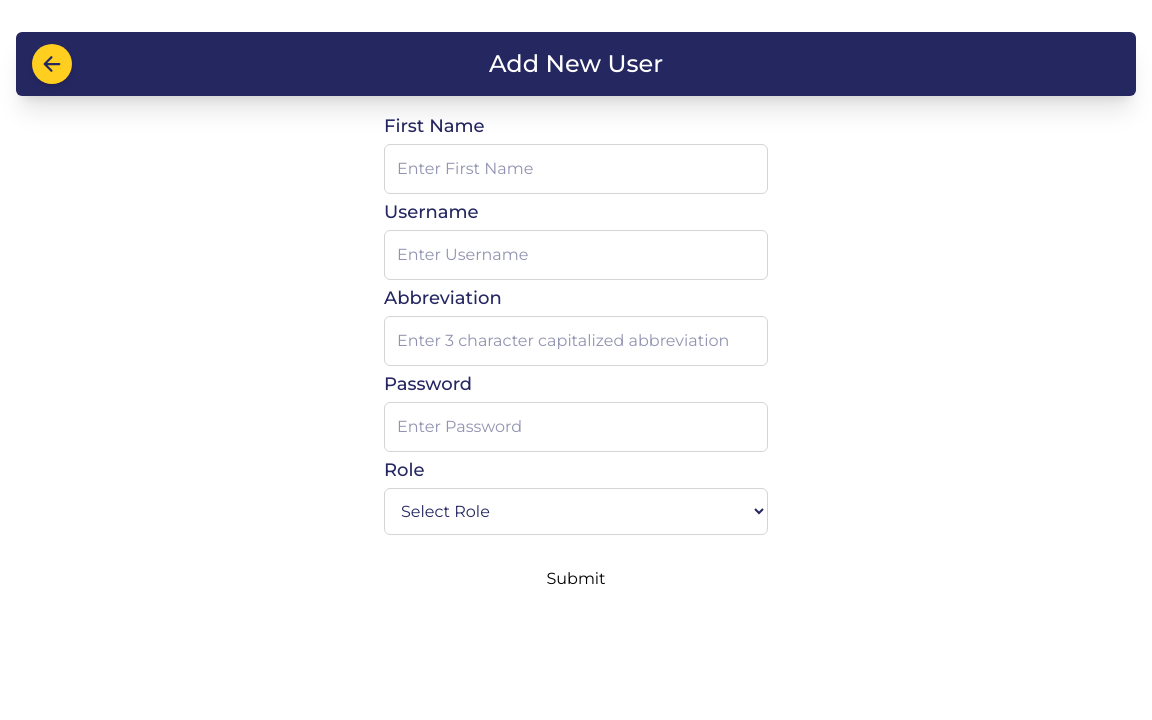
Scenario: AddUser Integration Test › A resued username fails
The image size is (1152, 720).
Type "Sydney" into the field labelled "First Name" at [576, 169], box [384,144,768,194]
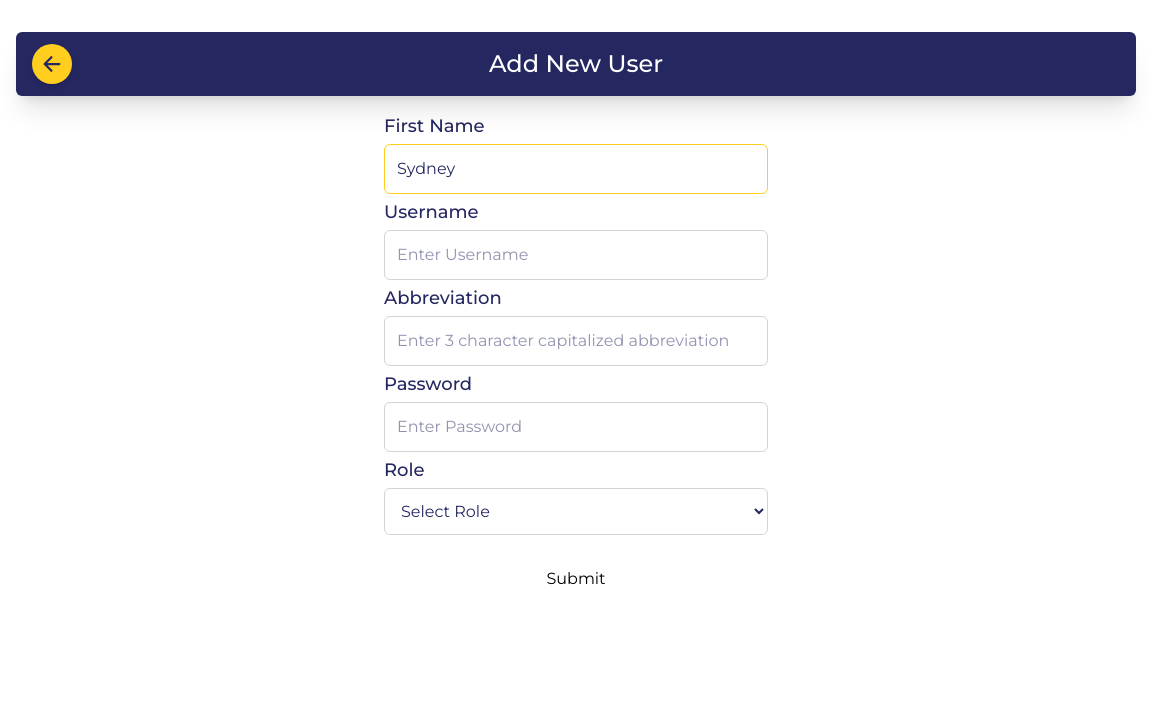
Type "ABC" into the field labelled "Abbreviation" at [576, 341], box [384,316,768,366]
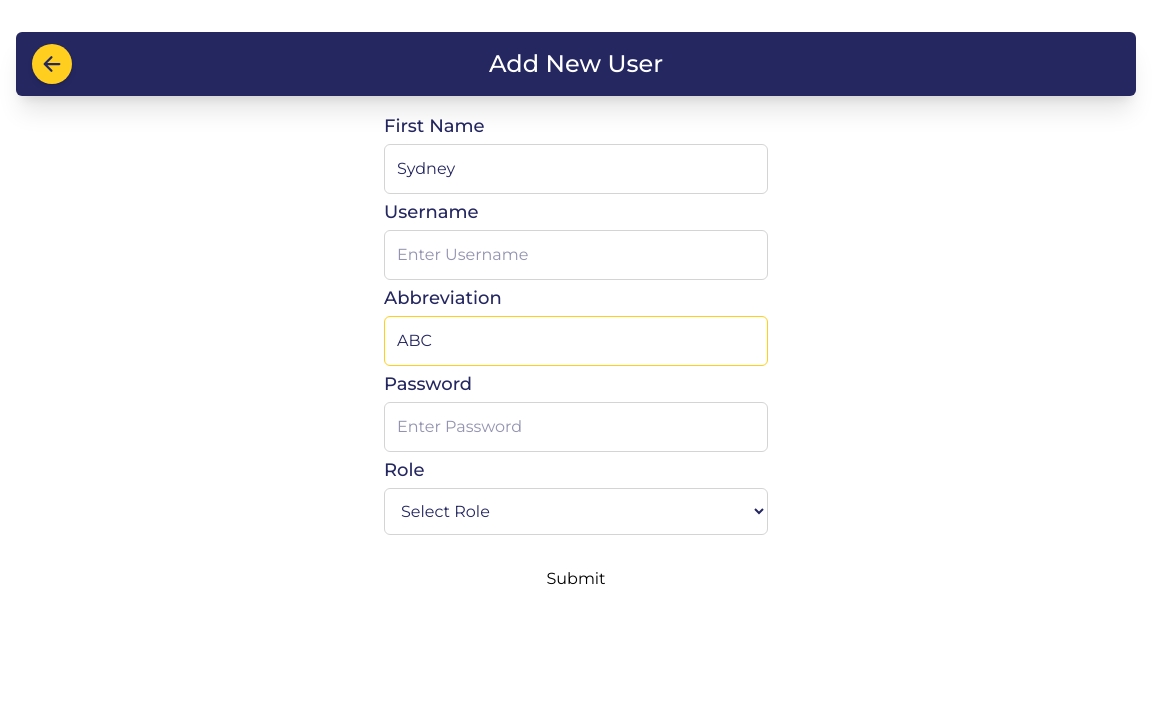
Type "sydneyA" into the field labelled "Username" at [576, 255], box [384,230,768,280]
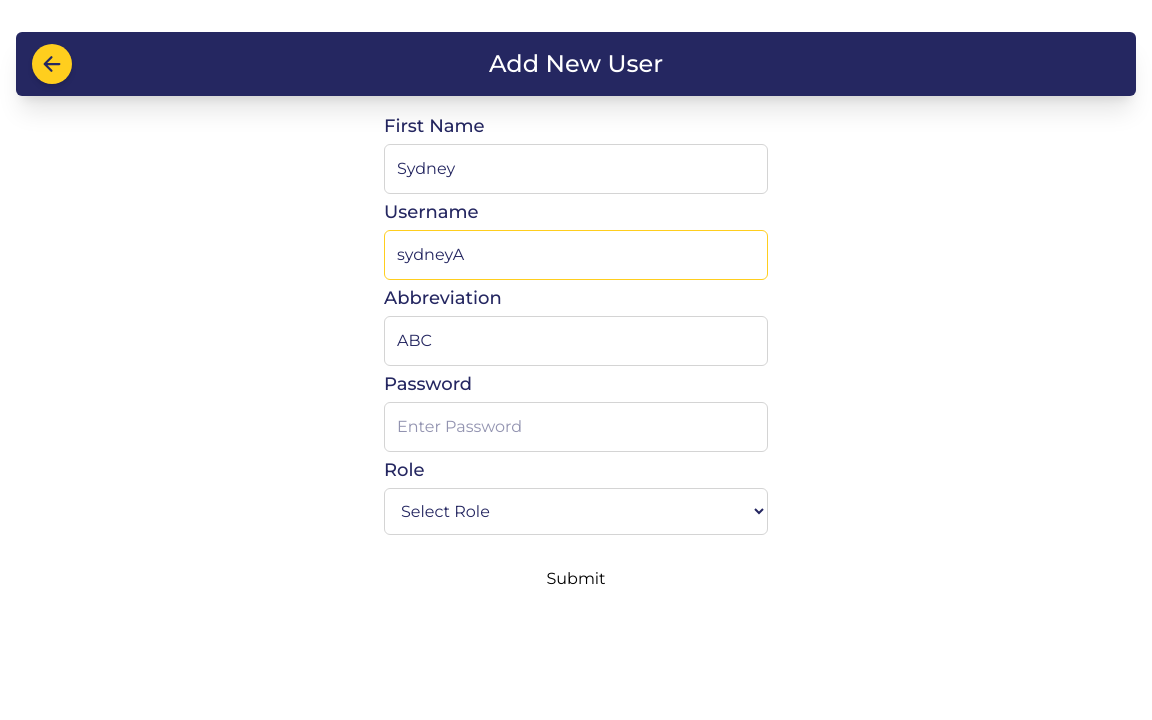
Type "Testing2!" into the field labelled "Password" at [576, 427], box [384,402,768,452]
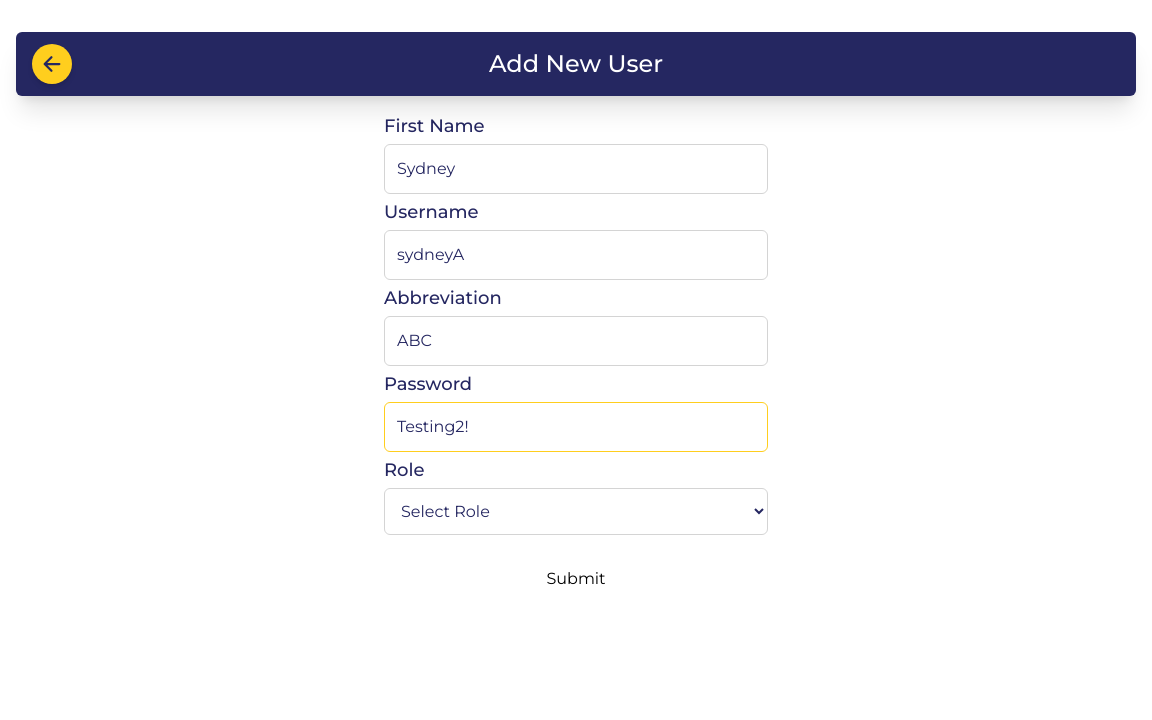
Select "Dispatch" in the dropdown labelled "Role" at [576, 512], box [384,488,768,535]
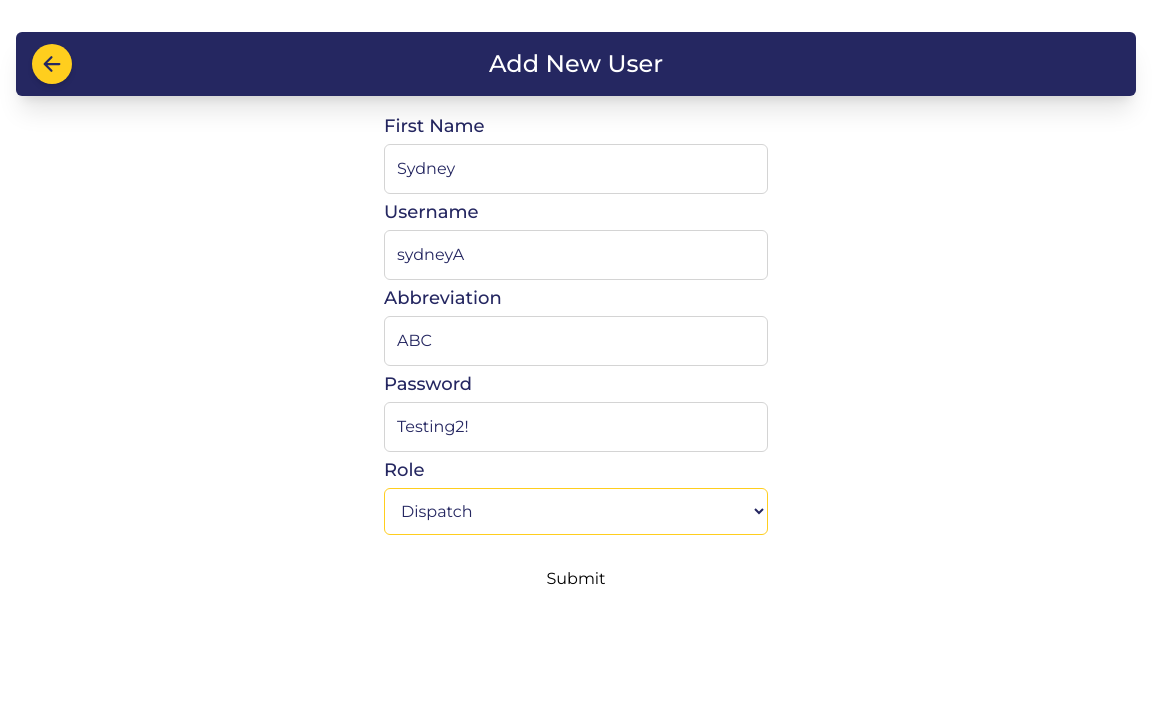
Click the button "Submit" at [576, 579], box [546,567,606,591]
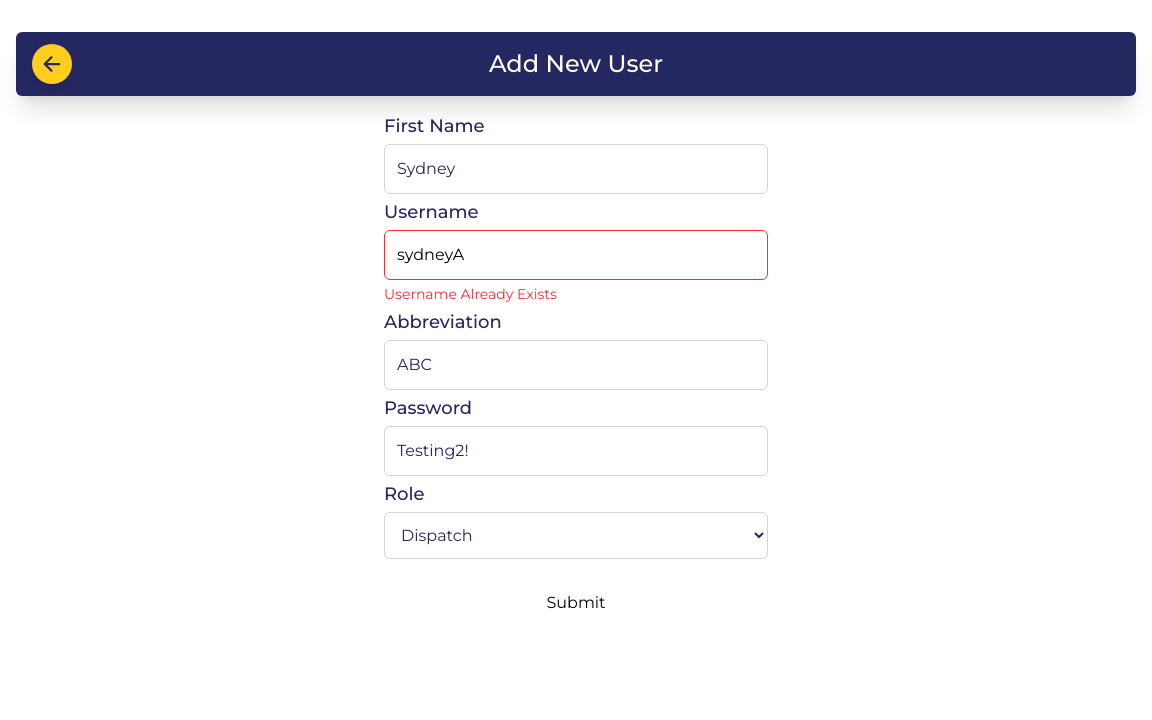
Expected: the text "Username Already Exists" is shown, [384,285,557,303]
